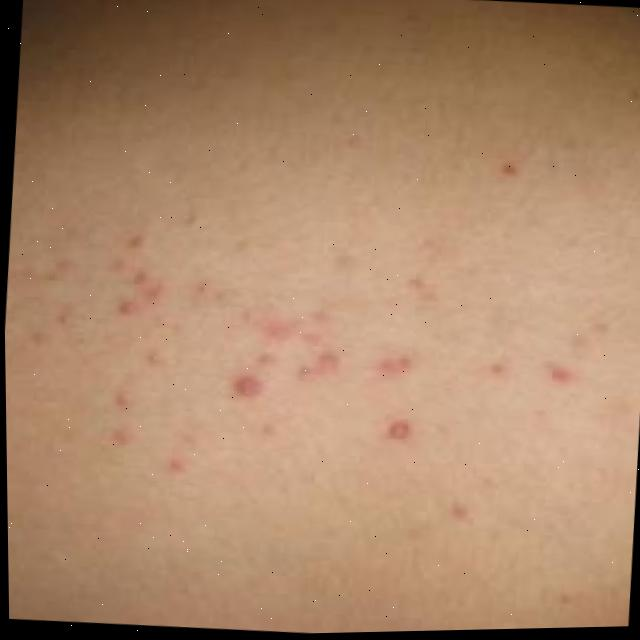Eczema: (7, 189, 587, 517)
